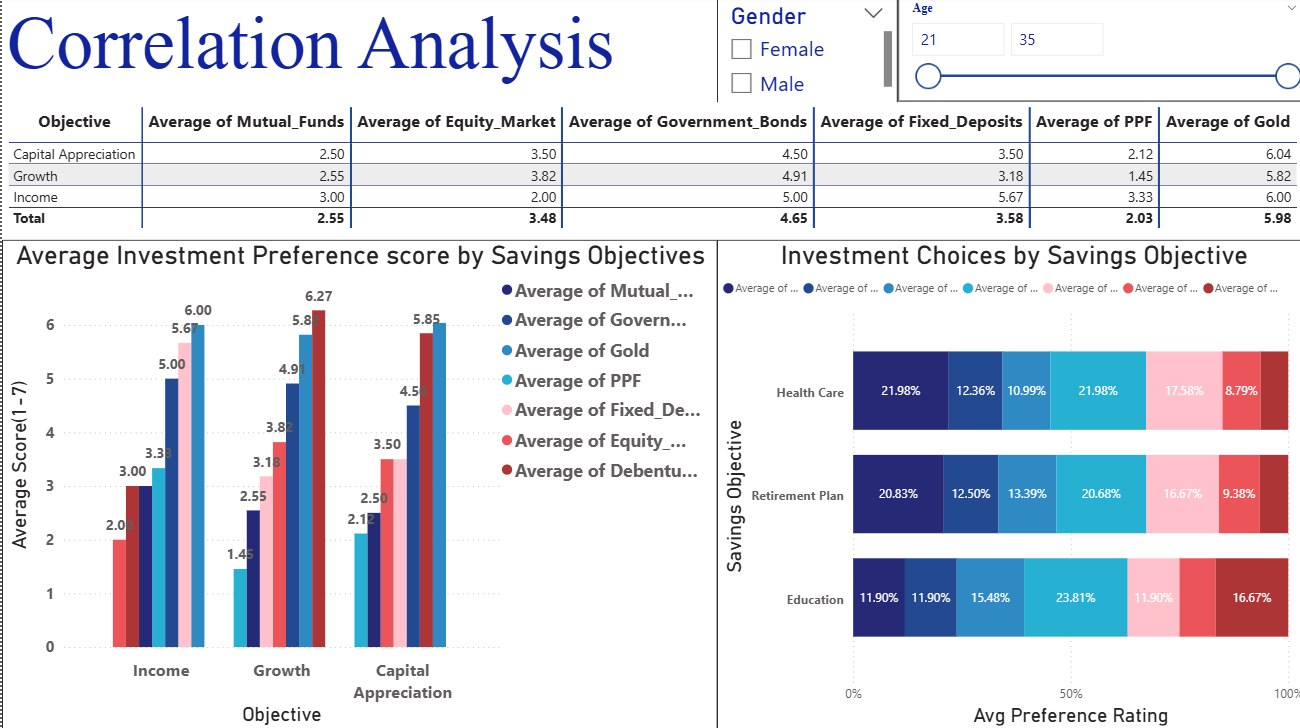

The page's visual inventory and layout, read from the dashboard file:
{"tool":"powerbi","page":{"name":"Task 3 Visuals","canvas":[1280,720],"ordinal":2},"visuals":[{"type":"clusteredColumnChart","title":"Average Investment Preference score by Savings Objectives","fields":{"Y":["Avg(Data_set 2.Mutual_Funds)","Avg(Data_set 2.Government_Bonds)","Avg(Data_set 2.Gold)","Avg(Data_set 2.PPF)","Avg(Data_set 2.Fixed_Deposits)","Avg(Data_set 2.Equity_Market)","Avg(Data_set 2.Debentures)"],"Category":["Data_set 2.Objective"]},"box":[0,238.3,700,481.5],"z":0},{"type":"hundredPercentStackedBarChart","title":"Investment Choices by Savings Objective","fields":{"Y":["Avg(Data_set 2.Debentures)","Avg(Data_set 2.Equity_Market)","Avg(Data_set 2.Fixed_Deposits)","Avg(Data_set 2.Gold)","Avg(Data_set 2.Government_Bonds)","Avg(Data_set 2.Mutual_Funds)","Avg(Data_set 2.PPF)"],"Category":["Data_set 2.What are your savings objectives?"]},"box":[700,238.3,580.2,481.5],"z":1000},{"type":"textbox","box":[0,0,700,103.3],"z":2000},{"type":"slicer","fields":{"Values":["Data_set 2.gender"]},"box":[700,0,176.7,106.7],"z":3000},{"type":"slicer","fields":{"Values":["Data_set 2.age"]},"box":[876.7,0,403.3,103.3],"z":4000},{"type":"tableEx","fields":{"Values":["Data_set 2.Objective","Avg(Data_set 2.Mutual_Funds)","Avg(Data_set 2.Equity_Market)","Avg(Data_set 2.Government_Bonds)","Avg(Data_set 2.Fixed_Deposits)","Avg(Data_set 2.PPF)","Avg(Data_set 2.Gold)"]},"box":[0,103.7,1280.2,134.6],"z":5000}]}

Visuals, with their boxes in screenshot pixels (x1, y1, x2, y2), scaled from the page's 1280x720 canvas onto the 1300x728 screenshot:
"Average Investment Preference score by Savings Objectives" clusteredColumnChart: [x1=0, y1=241, x2=711, y2=727]
"Investment Choices by Savings Objective" hundredPercentStackedBarChart: [x1=711, y1=241, x2=1299, y2=727]
textbox: [x1=0, y1=0, x2=711, y2=104]
slicer - Data_set 2.gender: [x1=711, y1=0, x2=890, y2=108]
slicer - Data_set 2.age: [x1=890, y1=0, x2=1299, y2=104]
tableEx - Data_set 2.Objective x Avg(Data_set 2.Mutual_Funds): [x1=0, y1=105, x2=1299, y2=241]
